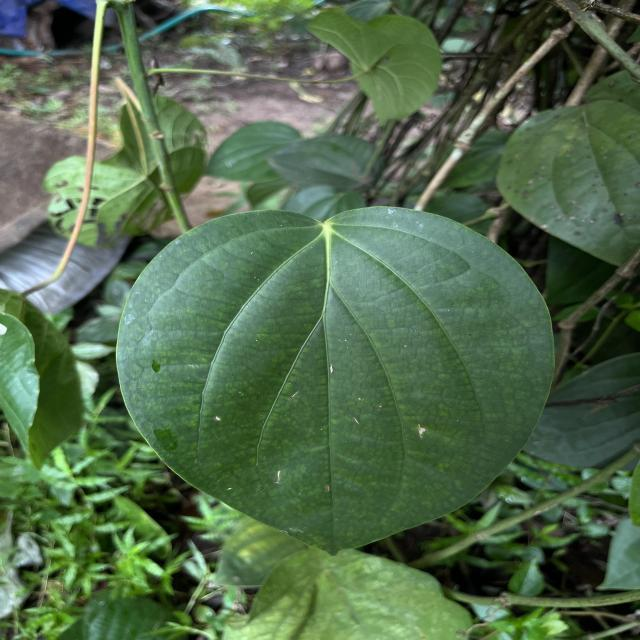Piper nigrum: (114, 202, 556, 560)
